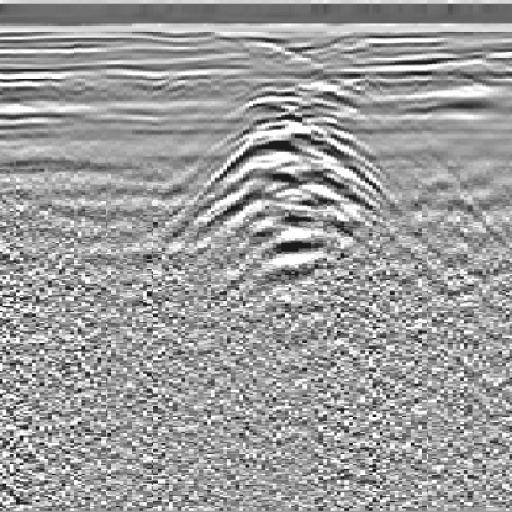metalic: (163, 66, 415, 305)
